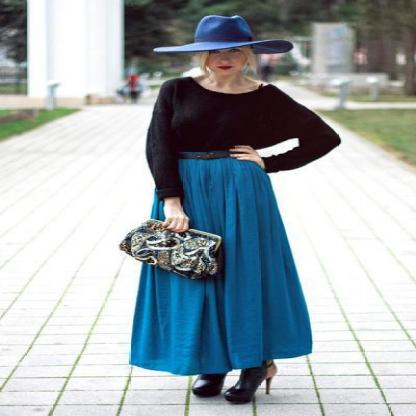bag: (120, 218, 226, 286)
hat: (162, 15, 286, 58)
shirt: (146, 77, 340, 207)
shoe: (192, 360, 270, 406)
skirt: (129, 158, 311, 379)
